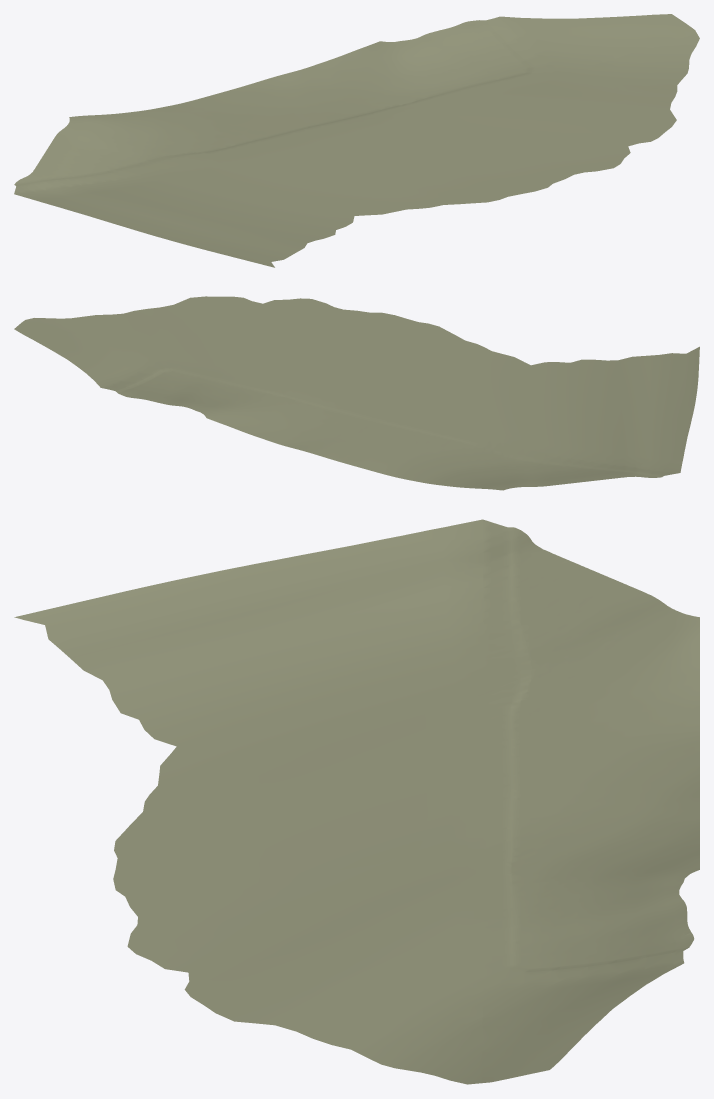
File: SM_ForestBed_RiverMouth.fbx
3 renders of one model, top to bottom at view 1: azimuth 30°, elevation 25°; view 2: azimuth 150°, elevation 25°; view 3: azimuth 270°, elevation 25°, orthographic. The views are drawn at different scales.
Visible parts, largest first — view 1: SM_ForestBed_RiverMouth; view 2: SM_ForestBed_RiverMouth; view 3: SM_ForestBed_RiverMouth.
Part boxes in pixels (box(x1,y1,x2,y2)): SM_ForestBed_RiverMouth: box(14, 14, 699, 267); SM_ForestBed_RiverMouth: box(14, 296, 699, 490); SM_ForestBed_RiverMouth: box(14, 519, 699, 1084).
Bounding box in the file's own units: 5446 × 2844 × 123.
